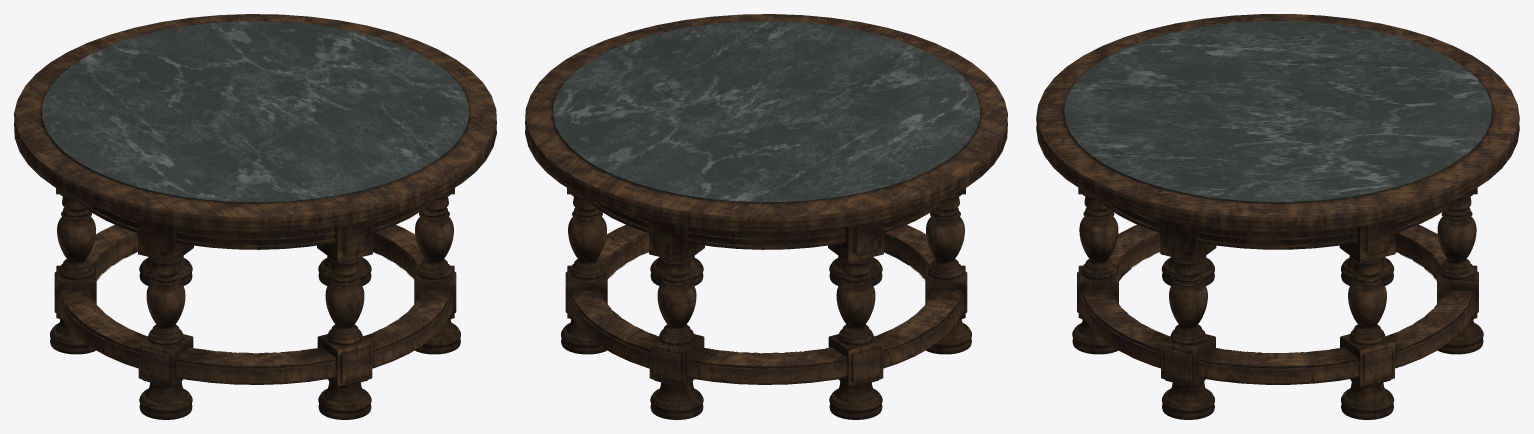
The picture shows the model from 3 angles, left to right: view 1: azimuth 30°, elevation 25°; view 2: azimuth 150°, elevation 25°; view 3: azimuth 270°, elevation 25°; orthographic projection.
Visible parts, largest first — view 1: Tisch; view 2: Tisch; view 3: Tisch.
Boxes of the visible parts, x1,y1,x2,y2 form: Tisch: (14,14,496,419); Tisch: (525,14,1007,419); Tisch: (1036,14,1519,419).
Bounding box in the file's own units: 217 × 115 × 217.
